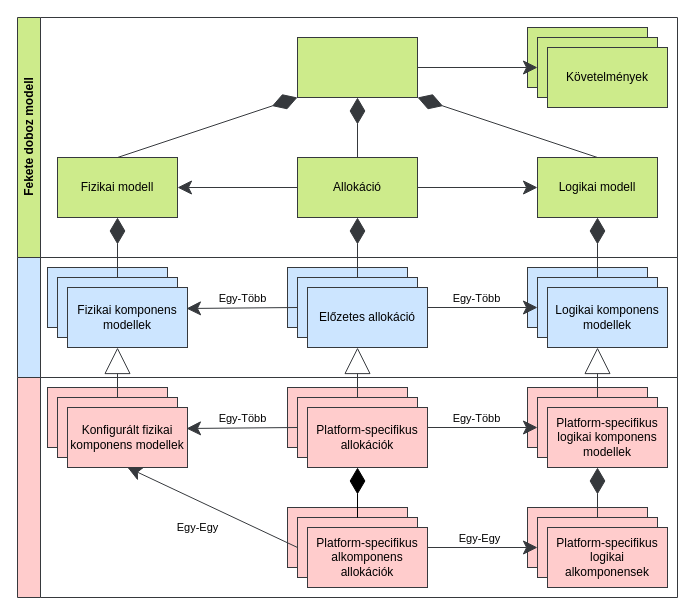
Some shapes in this 695 by 615 pixel diagram are drawn without their labels. Here are the shapes that lost their labels. From the top down, the centre of each, then its label:
At pixel 357 67: "Architektúra".
At pixel 347 317: "Magas szintű modell".
At pixel 347 487: "Részletes modell".
